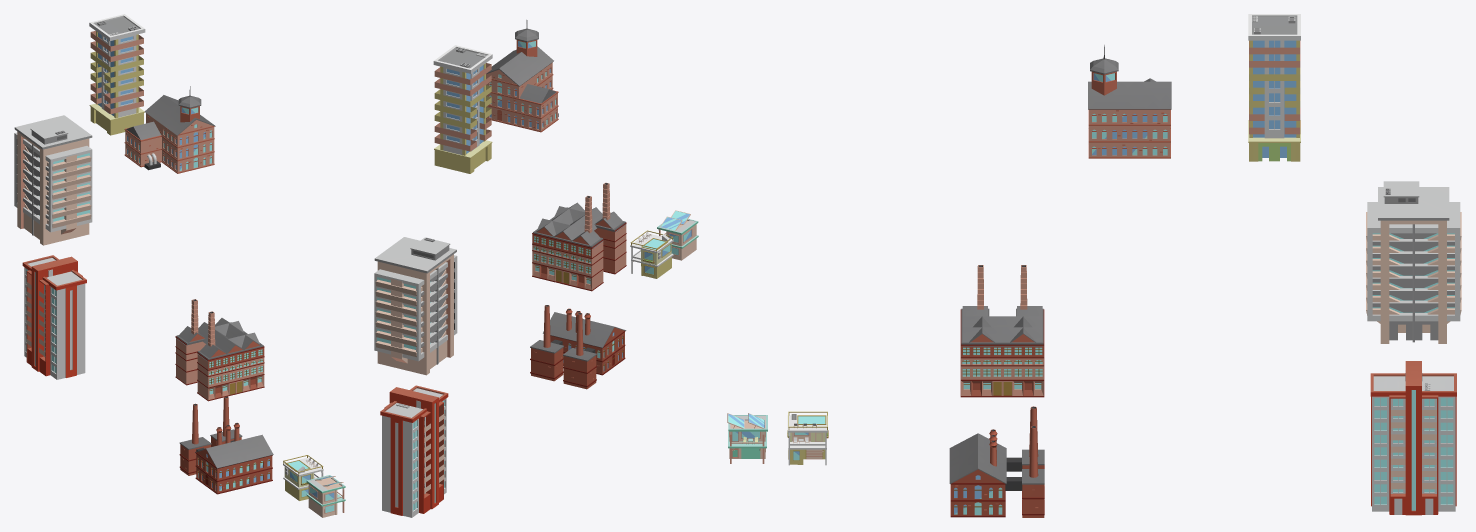
Rendered from 8 Buildings.fbx.
3 renders of one model, left to right at view 1: azimuth 30°, elevation 25°; view 2: azimuth 150°, elevation 25°; view 3: azimuth 270°, elevation 25°, orthographic. The views are drawn at different scales.
Parts seen in each view (by area): view 1: home_high.003, home_high.002, polySurface2429.001, home_living_1.002, polySurface2430.003, polySurface2308.002, home_living_modern.001, home_living_modern.002; view 2: home_high.003, home_high.002, polySurface2429.001, home_living_1.002, polySurface2308.002, polySurface2430.003, home_living_modern.002, home_living_modern.001; view 3: home_high.003, home_high.002, polySurface2429.001, home_living_1.002, polySurface2430.003, polySurface2308.002, home_living_modern.002, home_living_modern.001.
Boxes of the visible parts, box(x1,y1,x2,y2) form: home_high.003: box(14, 115, 92, 245); home_high.002: box(22, 255, 86, 379); polySurface2429.001: box(175, 299, 264, 401); home_living_1.002: box(89, 14, 145, 135); polySurface2430.003: box(124, 86, 215, 173); polySurface2308.002: box(179, 396, 273, 494); home_living_modern.001: box(306, 475, 345, 517); home_living_modern.002: box(283, 455, 323, 500); home_high.003: box(374, 237, 457, 375); home_high.002: box(380, 385, 448, 517); polySurface2429.001: box(532, 182, 626, 291); home_living_1.002: box(433, 45, 492, 173); polySurface2308.002: box(530, 305, 626, 389); polySurface2430.003: box(486, 20, 558, 132); home_living_modern.002: box(630, 230, 673, 278); home_living_modern.001: box(657, 210, 698, 260); home_high.003: box(1366, 181, 1461, 343); home_high.002: box(1370, 361, 1456, 515); polySurface2429.001: box(960, 265, 1044, 397); home_living_1.002: box(1248, 14, 1300, 161); polySurface2430.003: box(1088, 45, 1171, 158); polySurface2308.002: box(949, 406, 1044, 517); home_living_modern.002: box(787, 411, 828, 465); home_living_modern.001: box(727, 413, 767, 463).
Size of the model in its own units: 7.62 by 42.99 by 59.07.
Materials: 1 (1 with a texture image).
